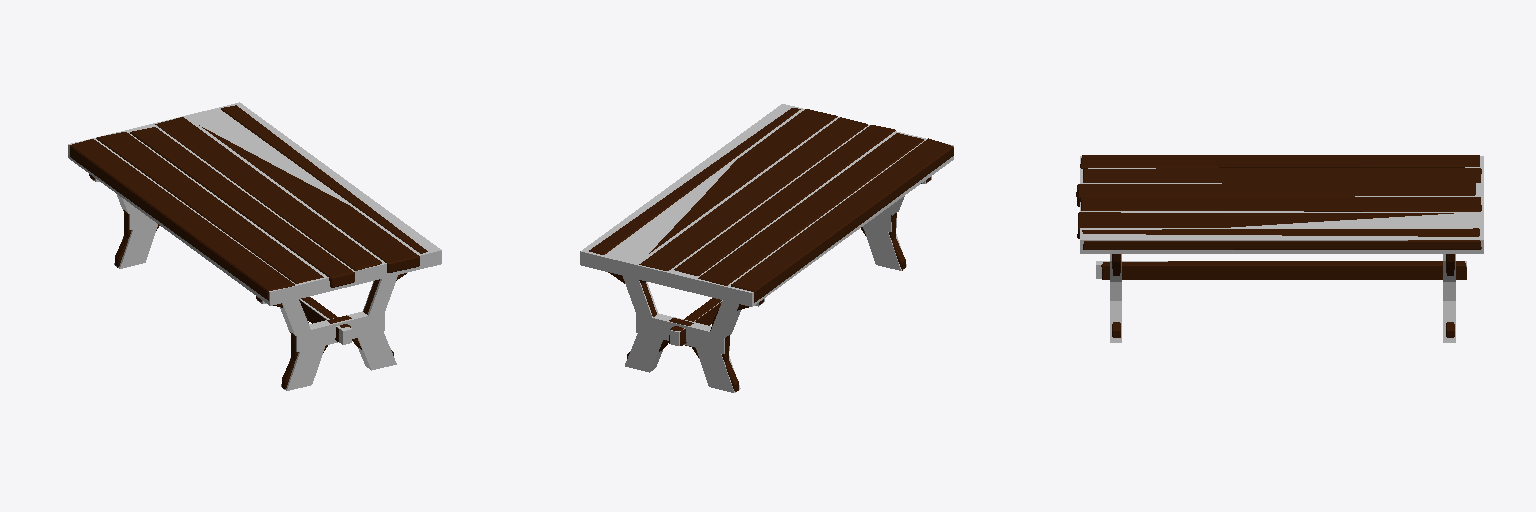
File: table.obj
The picture shows the model from 3 angles: view 1: azimuth 30°, elevation 25°; view 2: azimuth 150°, elevation 25°; view 3: azimuth 270°, elevation 25°; orthographic projection.
Visible parts, largest first — view 1: Cube, COLLISION_Cube.001; view 2: Cube, COLLISION_Cube.001; view 3: Cube, COLLISION_Cube.001.
Part boxes in pixels (left/top/right/bottom): Cube: left=70, top=105, right=427, bottom=388; COLLISION_Cube.001: left=68, top=102, right=441, bottom=390; Cube: left=589, top=108, right=953, bottom=391; COLLISION_Cube.001: left=580, top=104, right=953, bottom=392; Cube: left=1076, top=155, right=1481, bottom=337; COLLISION_Cube.001: left=1080, top=156, right=1483, bottom=342.
Size of the model in its own units: 1.22 by 0.8021 by 2.47.